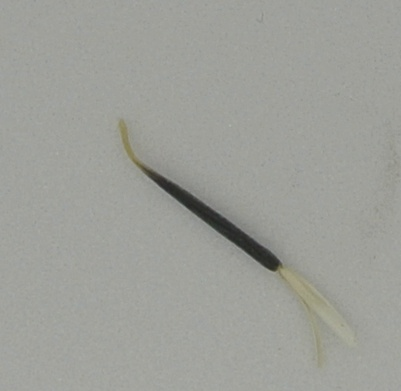เมล็ดดีเรียวยาว: (118, 119, 361, 372)
